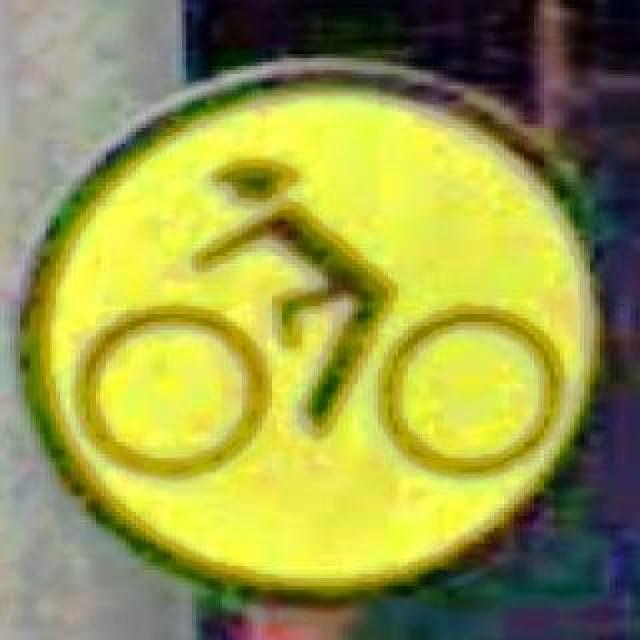bike lane: (16, 58, 600, 598)
